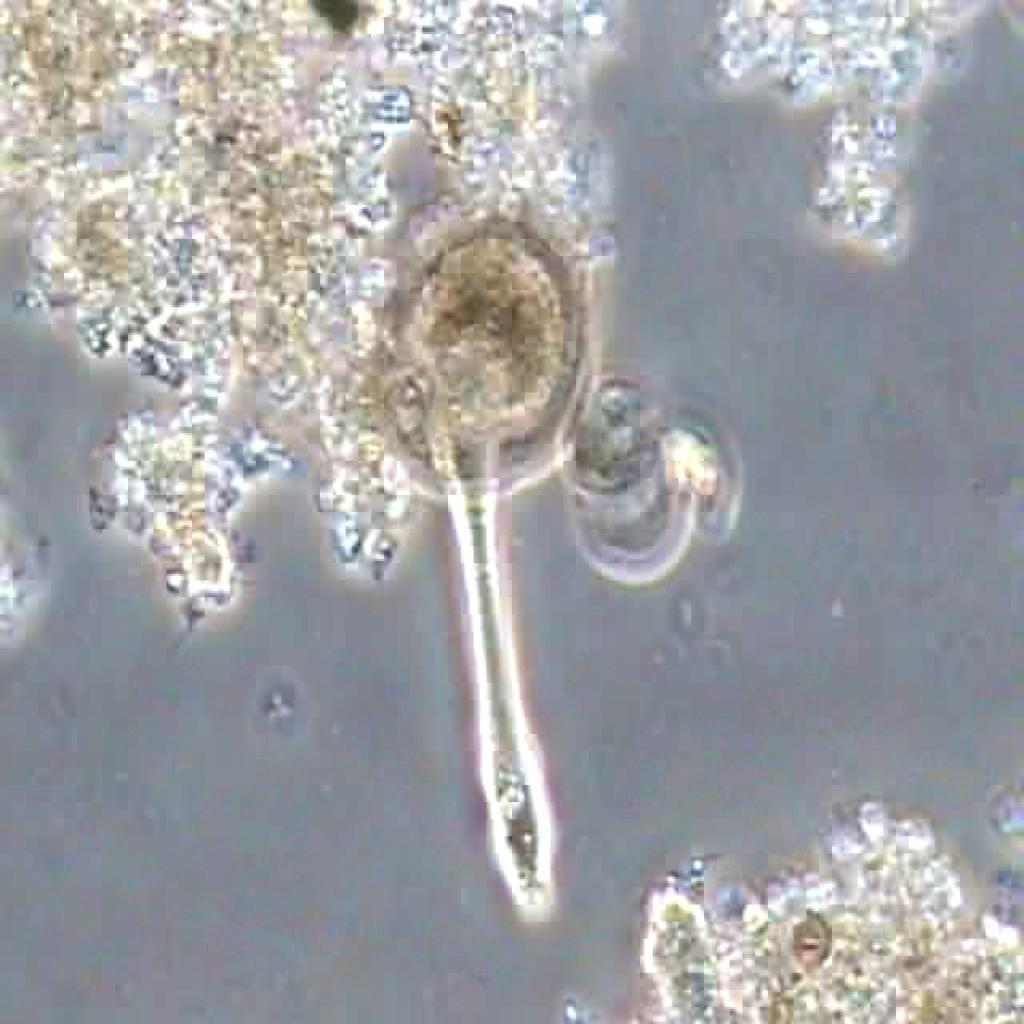Arcella: (365, 187, 587, 942)
